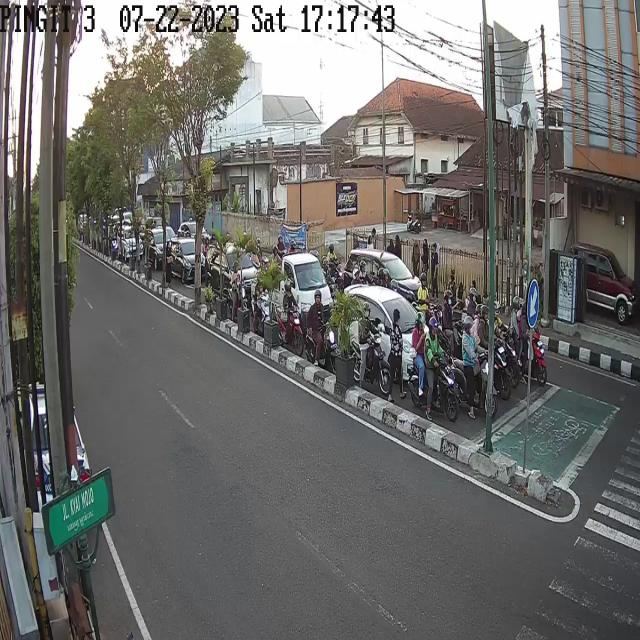car: (341, 282, 435, 382), (338, 249, 427, 317), (577, 244, 637, 326), (208, 244, 260, 301), (166, 237, 205, 284), (117, 224, 145, 266), (143, 229, 173, 268), (178, 220, 216, 249)
motorcycle: (452, 314, 499, 426), (411, 312, 457, 419), (507, 296, 550, 390), (349, 301, 389, 398), (303, 286, 338, 373), (274, 279, 301, 358), (250, 268, 276, 340), (230, 260, 248, 320)
truck: (256, 245, 331, 334)
